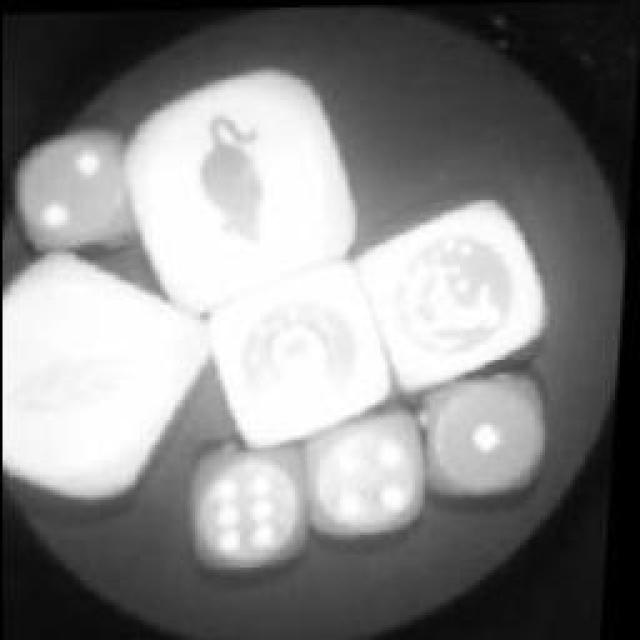dice_1: (408, 360, 560, 510)
dice_2: (0, 115, 152, 272)
dice_5: (298, 402, 438, 546)
dice_6: (178, 441, 318, 581)
